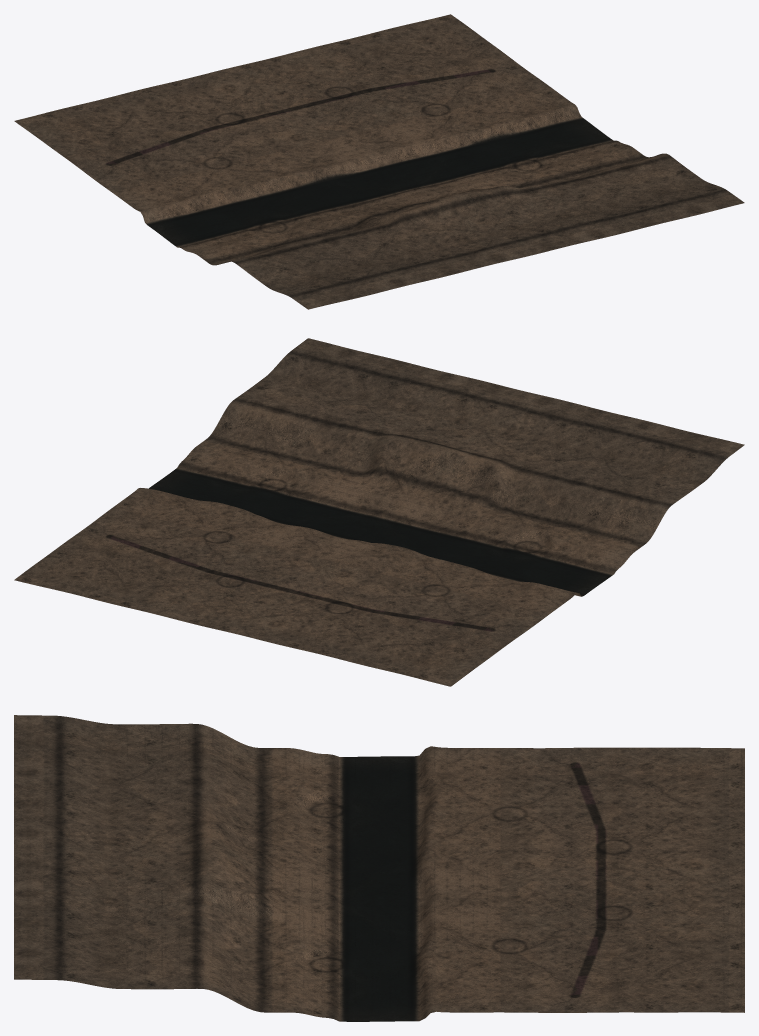
File: canyon-works-terrain.glb
3 views of the same model, one above another, from view 1: azimuth 30°, elevation 25°; view 2: azimuth 150°, elevation 25°; view 3: azimuth 270°, elevation 25° (orthographic). The views are drawn at different scales.
Parts seen in each view (by area): view 1: CanyonWorksTerrain; view 2: CanyonWorksTerrain; view 3: CanyonWorksTerrain.
Boxes of the visible parts, box(x1,y1,x2,y2) form: CanyonWorksTerrain: box(14, 14, 744, 309); CanyonWorksTerrain: box(14, 338, 744, 686); CanyonWorksTerrain: box(14, 715, 744, 1021).
Size of the model in its own units: 96 by 7.13 by 112.
Materials: 1 (1 with a texture image).
